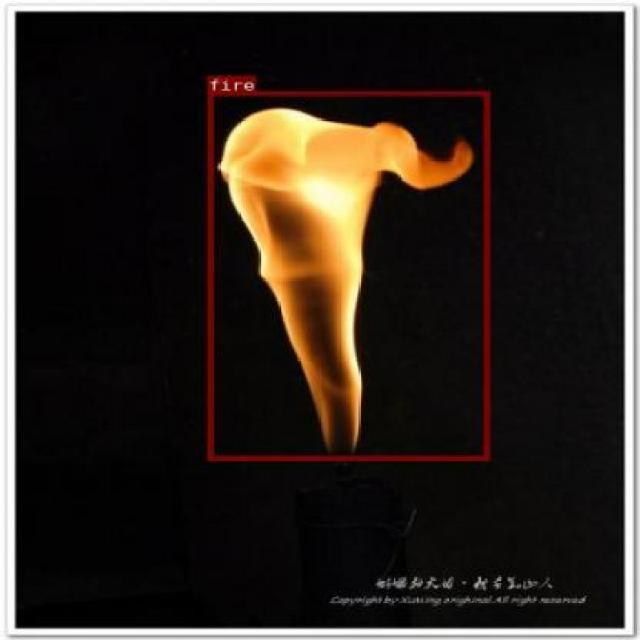Fire: (282, 276, 348, 368)
